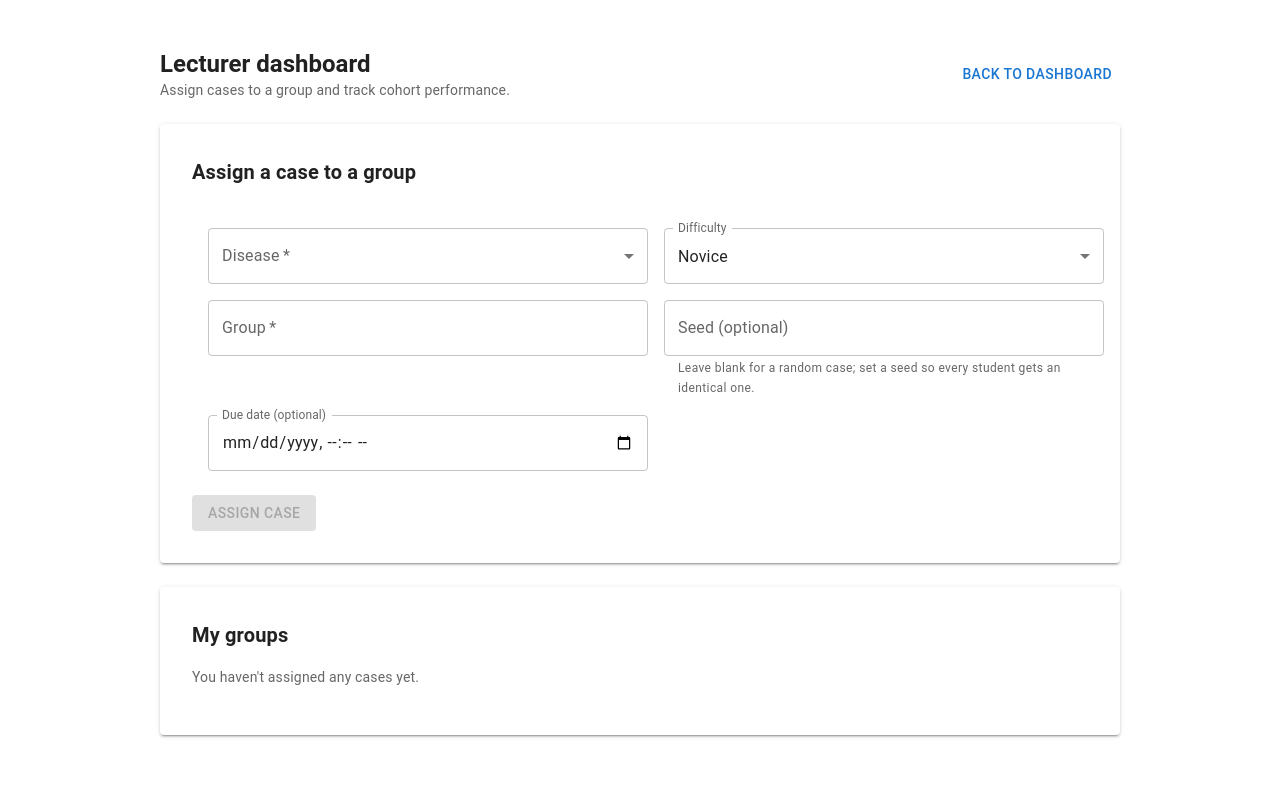
it: LecturerDashboardPage › shows an error when assignment fails
The image size is (1280, 800).
Expected: the text "You haven't assigned any cases yet." is shown, x1=192 y1=669 x2=419 y2=685
Click the dropdown named "Disease" at [428, 256], box x1=208 y1=228 x2=648 y2=284
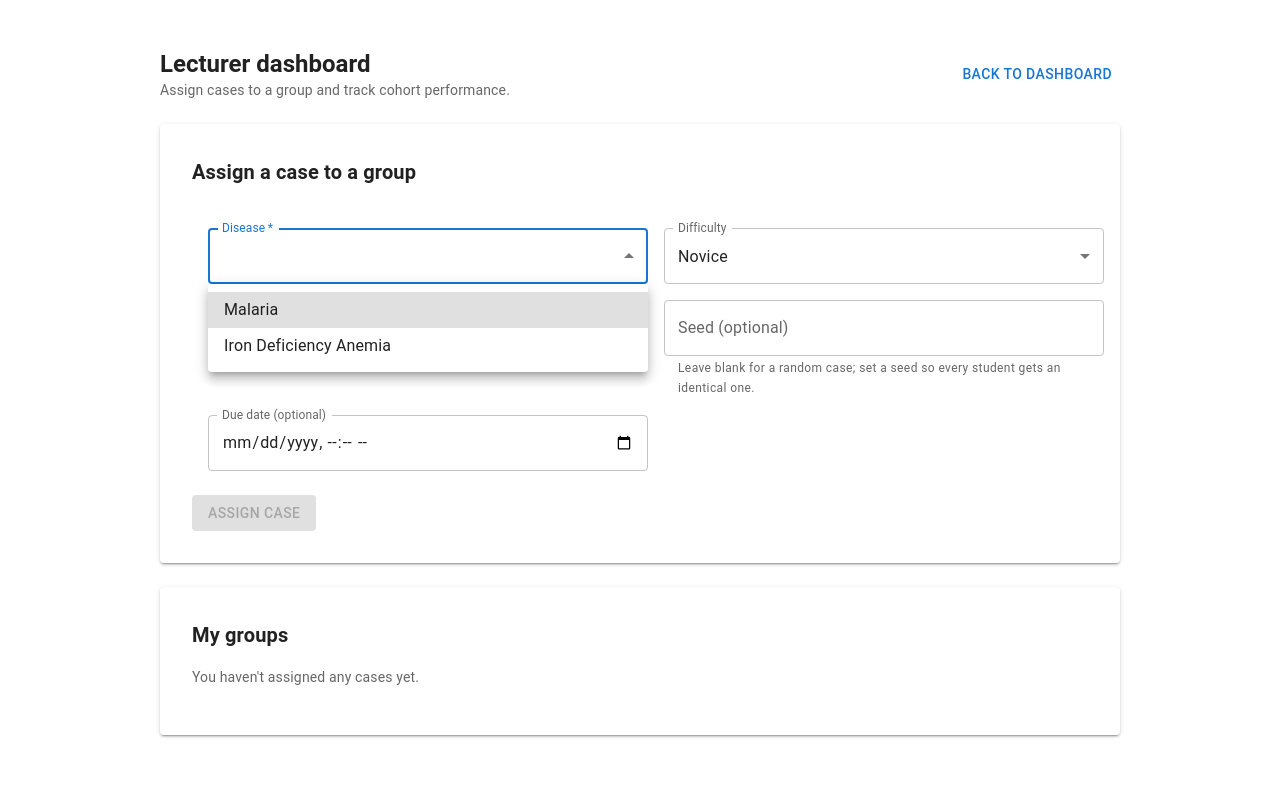
Click the option "Malaria" at [251, 310], box x1=208 y1=292 x2=648 y2=328
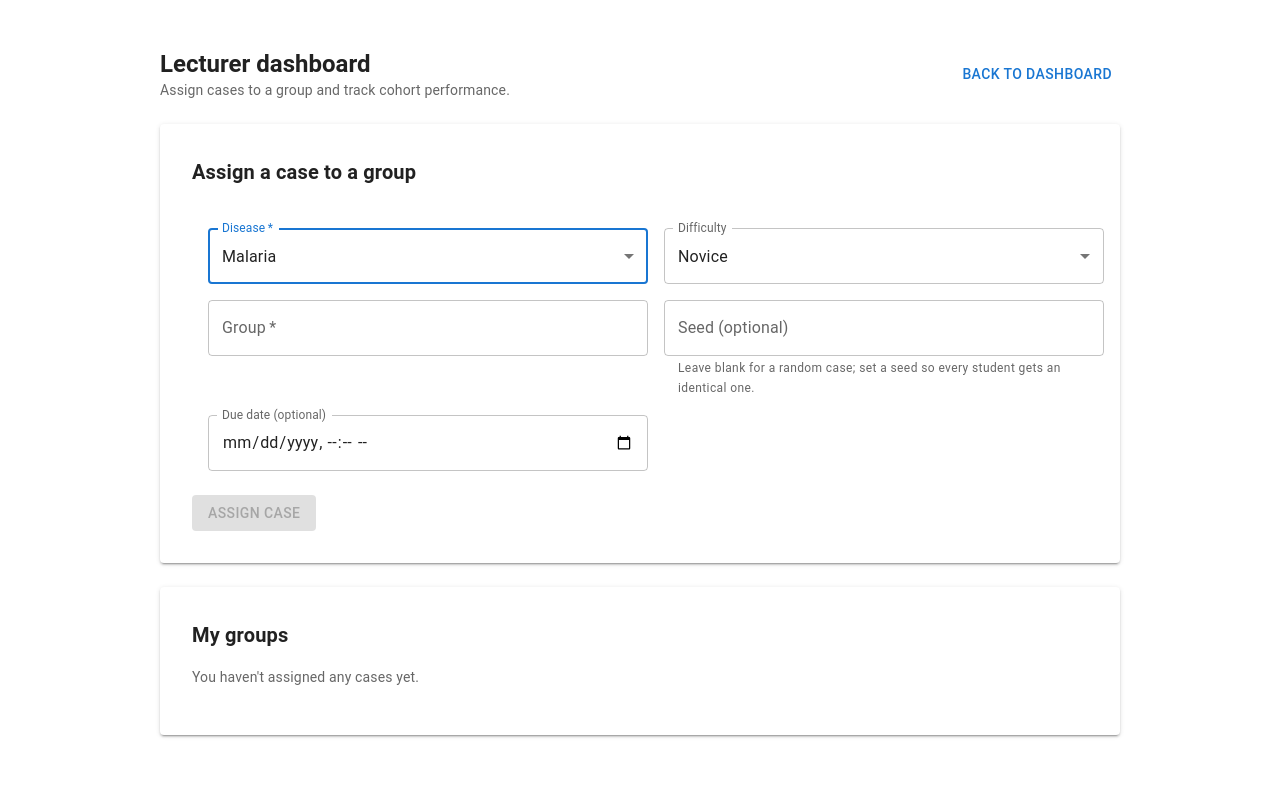
Type "BLS-Y3-A" into the field labelled "Group" at [428, 328], box x1=208 y1=300 x2=648 y2=356
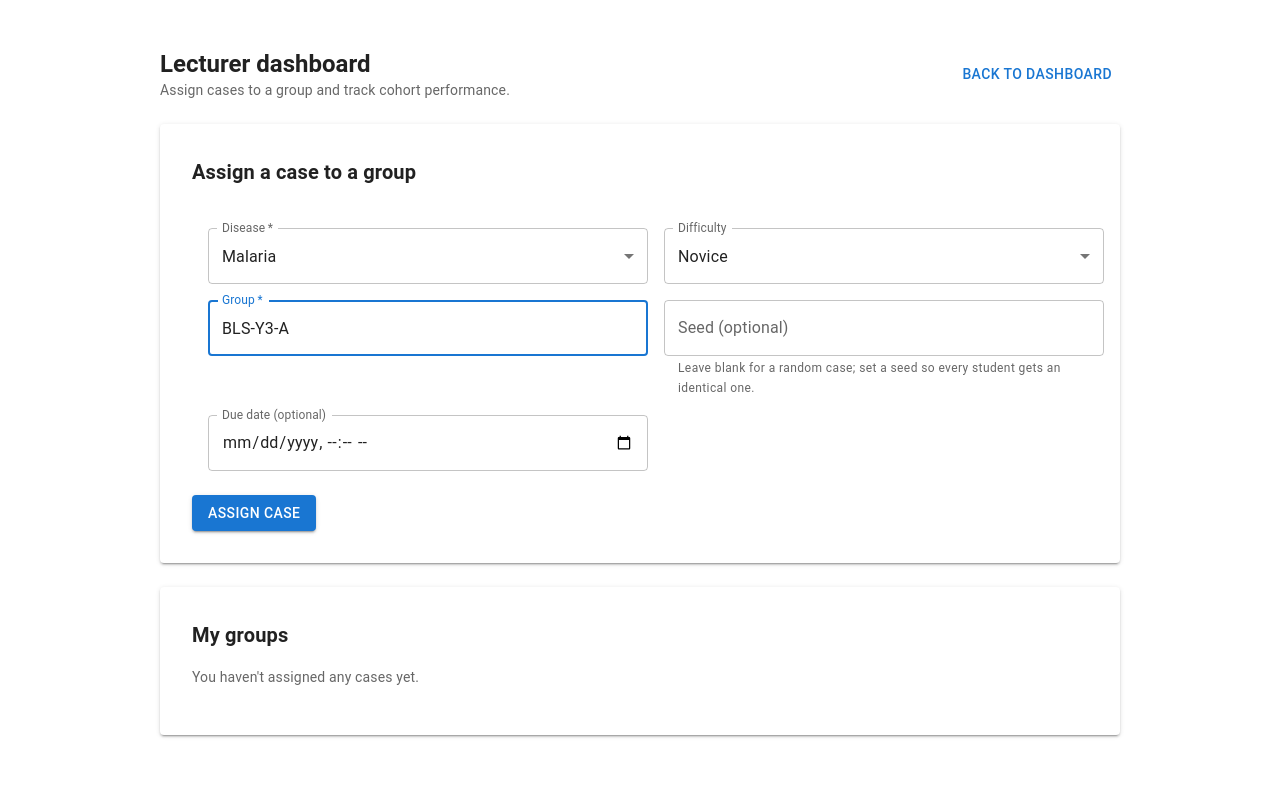
Click the button "Assign case" at [254, 513], box x1=192 y1=495 x2=316 y2=531
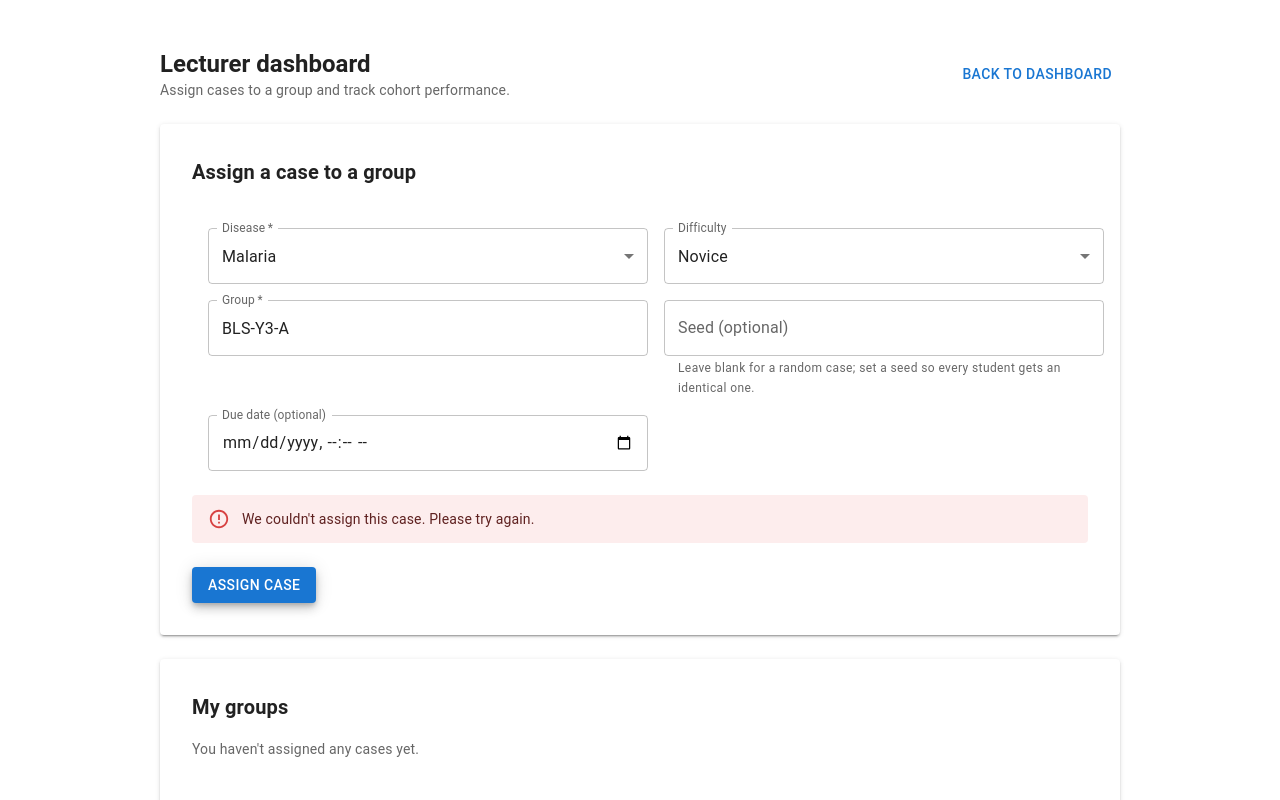
Expected: the text "We couldn't assign this case. Please try again." is shown, x1=242 y1=511 x2=535 y2=527
